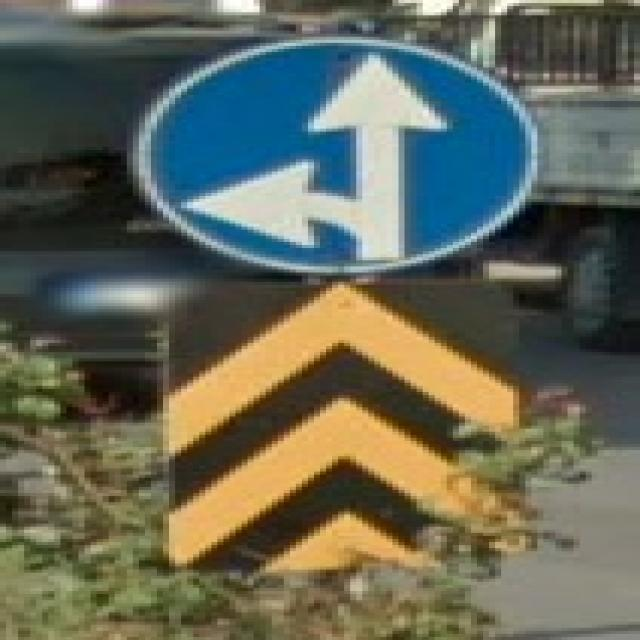Straight or Left: (131, 38, 541, 274)
